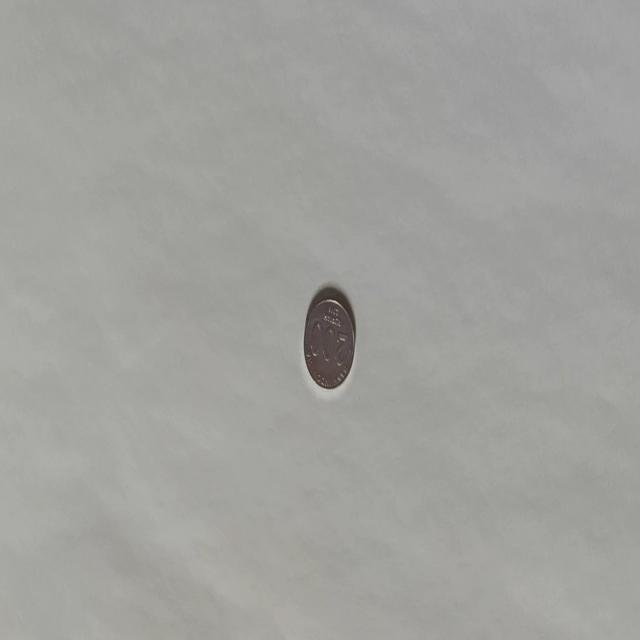dua ratus rupiah: (302, 295, 356, 390)
